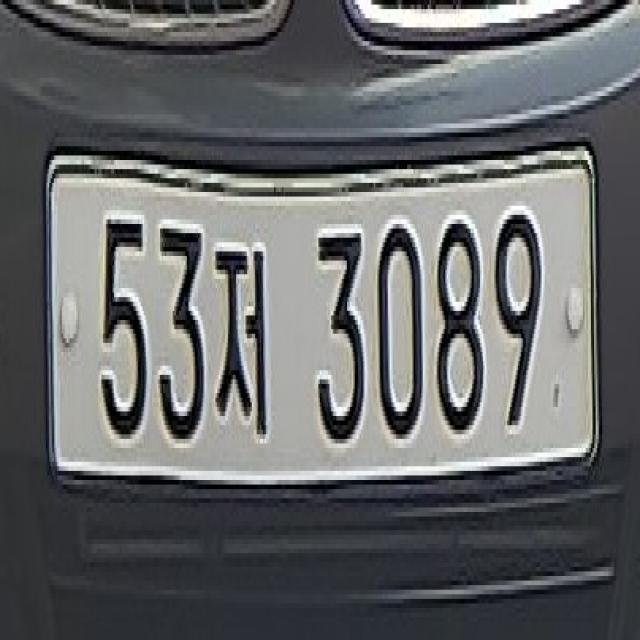0: (371, 197, 431, 452)
3: (149, 187, 209, 471), (309, 215, 364, 452)
5: (93, 192, 160, 439)
8: (431, 174, 489, 466)
9: (490, 192, 554, 457)
jeo: (206, 210, 271, 448)
license_plate: (38, 114, 607, 512)
